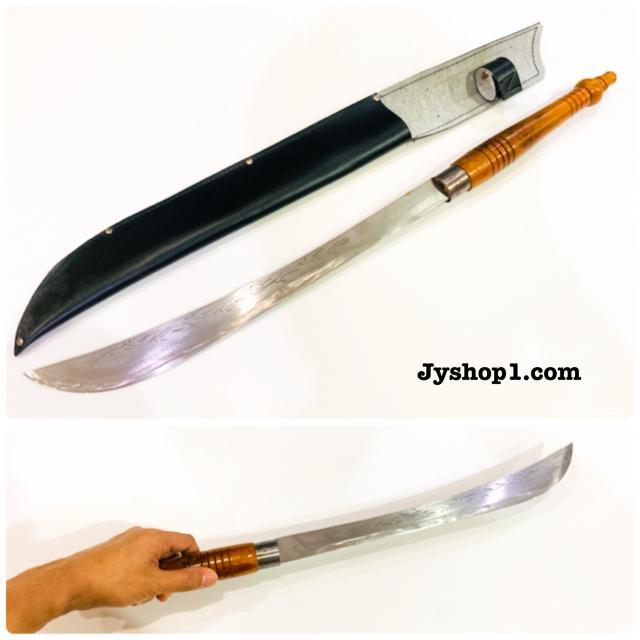long sword: (15, 68, 624, 398)
